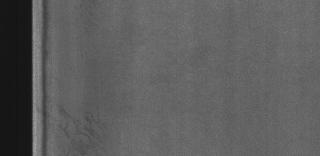water spot: (56, 95, 110, 156)
